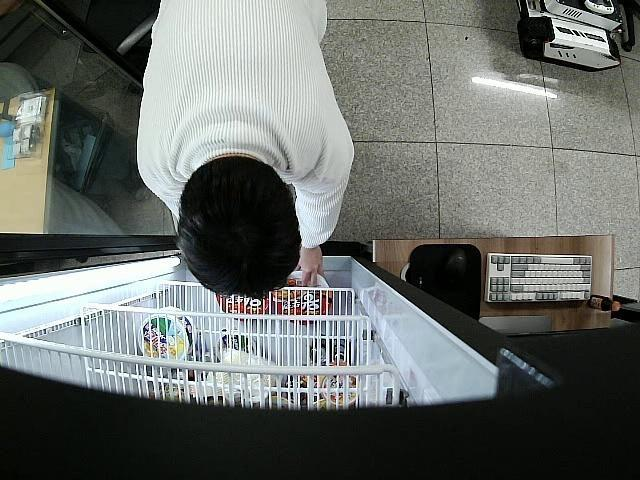10_wangTtukkeong: (273, 271, 334, 326)
